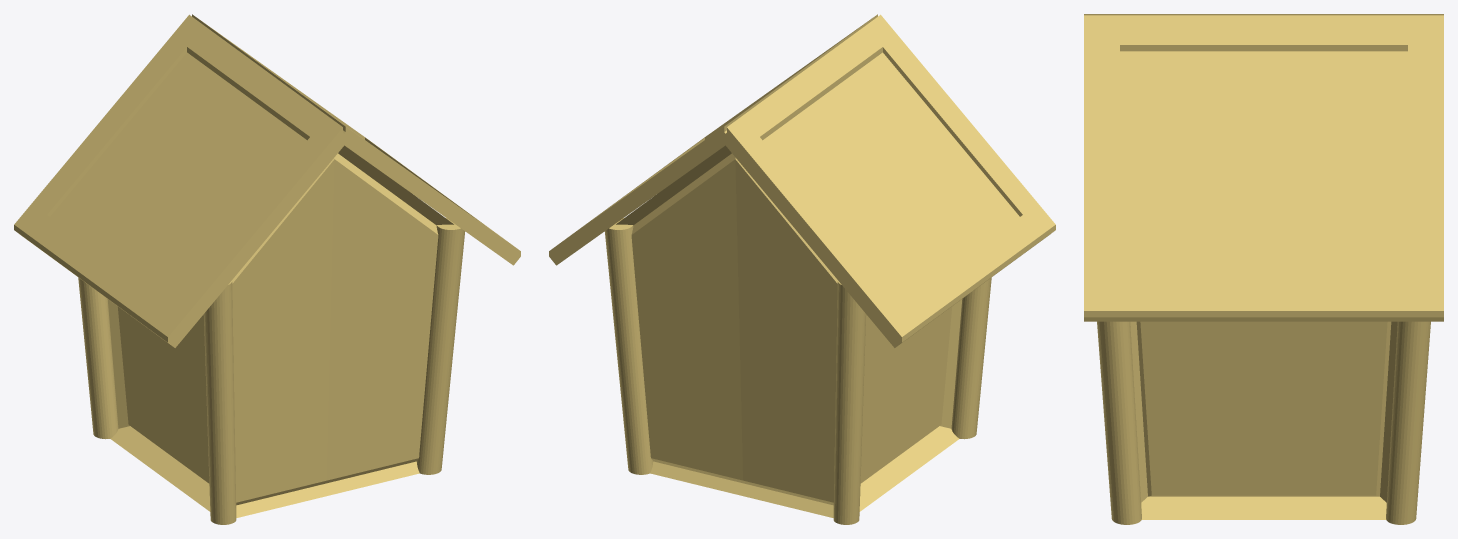
Rendered from house.fbx.
3 renders of one model, left to right at view 1: azimuth 30°, elevation 25°; view 2: azimuth 150°, elevation 25°; view 3: azimuth 270°, elevation 25°, orthographic. The views are drawn at different scales.
Visible parts, largest first — view 1: Cube, 立方体, 円柱; view 2: Cube, 立方体, 円柱; view 3: 立方体, Cube, 円柱.
Part boxes in pixels (x1,y1,x2,y2): Cube: (107,145,453,517); 立方体: (14,14,520,347); 円柱: (78,218,465,524); Cube: (616,145,962,517); 立方体: (549,14,1055,347); 円柱: (604,218,991,524); 立方体: (1084,14,1443,321); Cube: (1130,321,1397,519); 円柱: (1097,321,1430,524).
Size of the model in its own units: 298 by 307 by 225.
